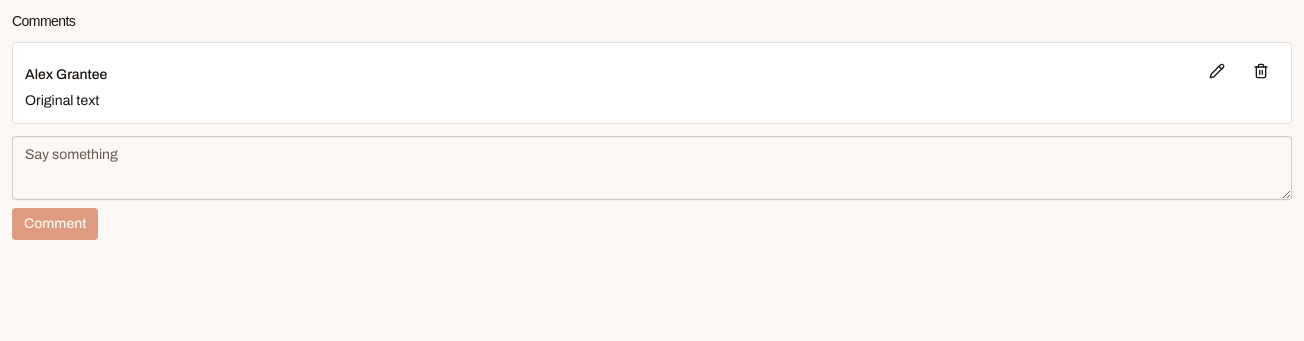
Scenario: CommentThread › editing a comment › cancel discards the edit without any request
Expected: the text "Original text" is shown, [25,93,100,108]
Click the 1st button named "edit your comment".
click(1217, 71)  # box [1199,55,1235,87]
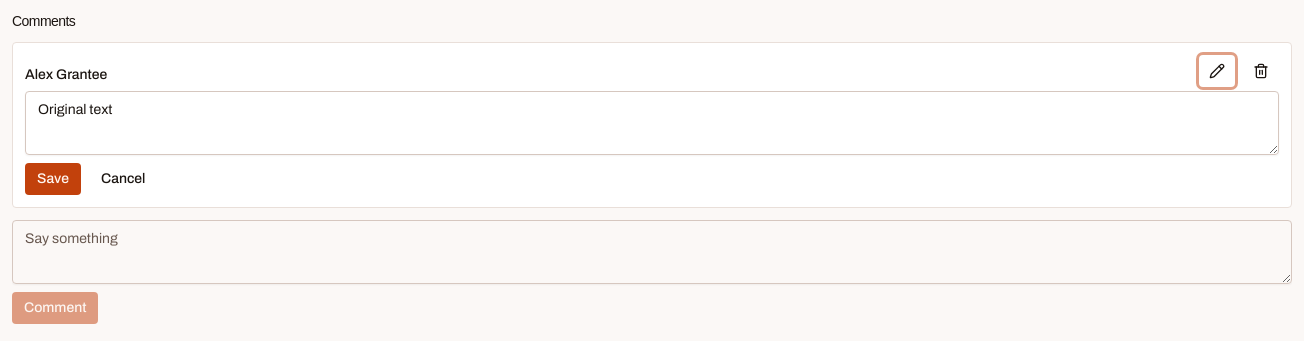
Replace the text in the text box named "Edit your comment" with "Unsaved change" at (652, 123), box [25,91,1279,155]
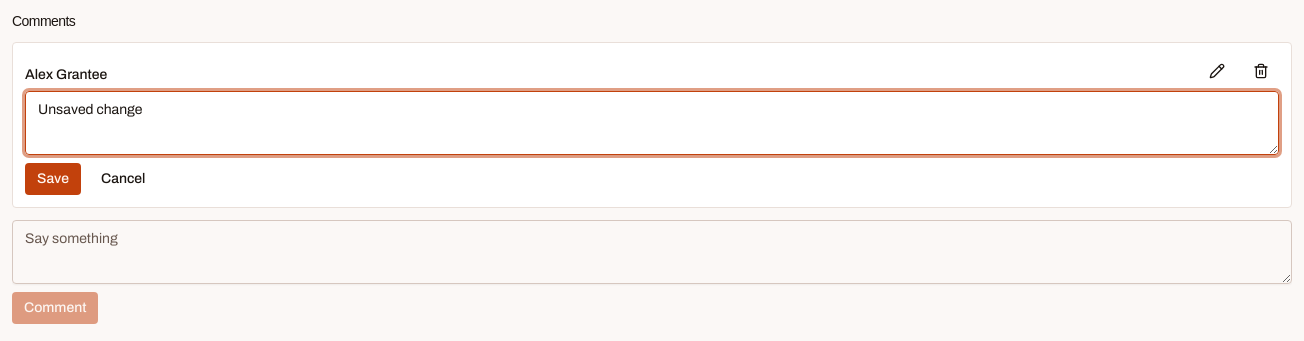
Click the button "Cancel".
click(123, 179)  # box [89,163,157,195]
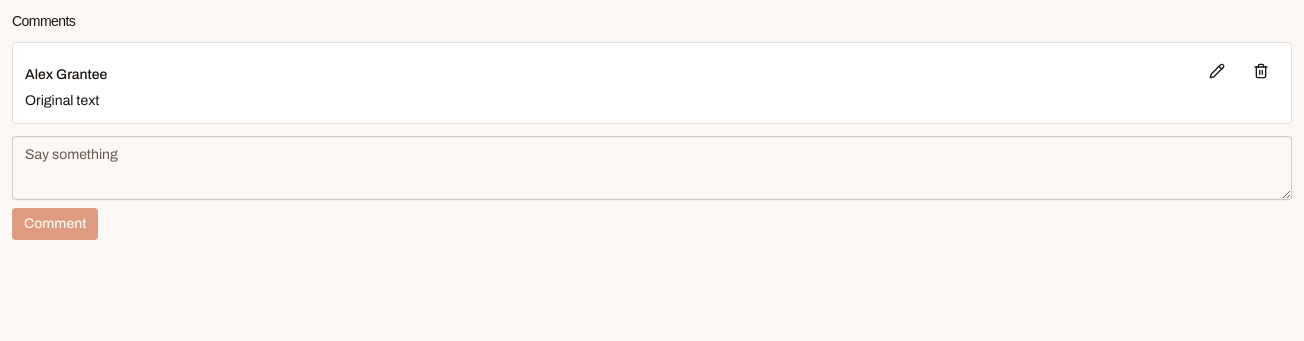
Now the text "Original text" is shown, box [25,93,100,108]
